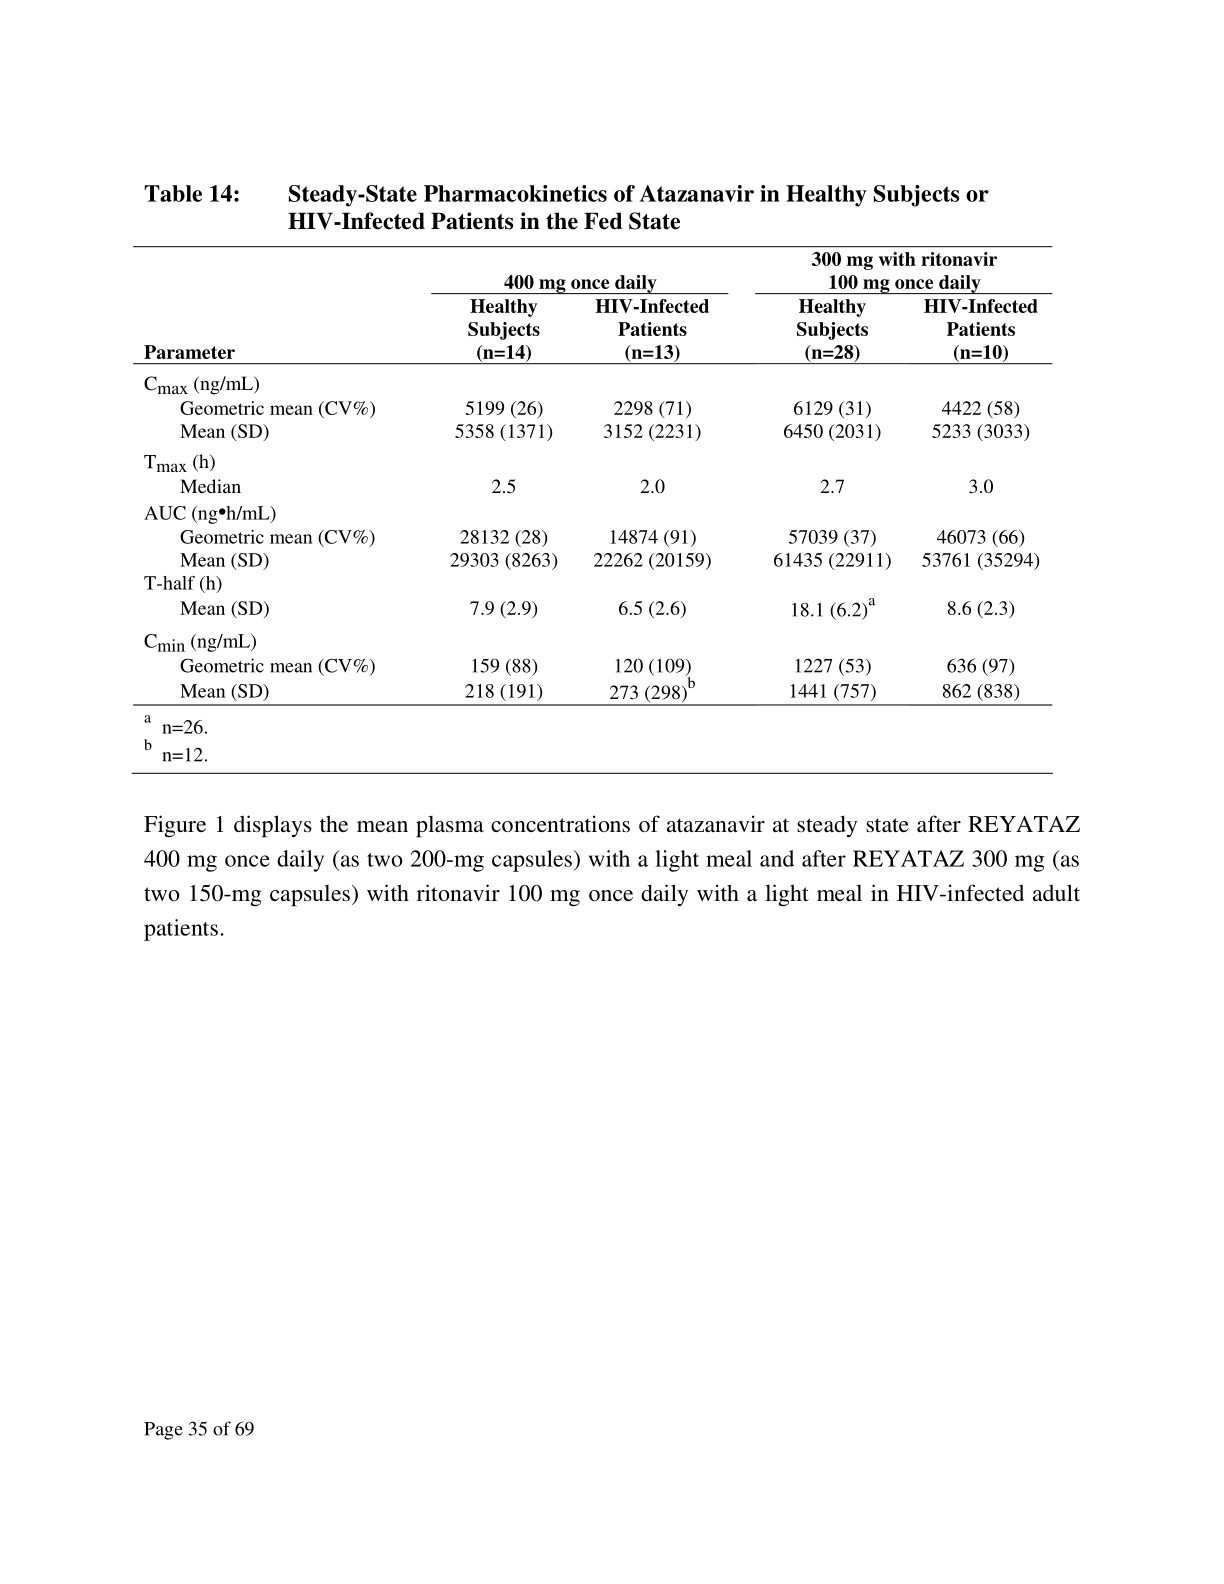partial_lined_merged_cells: (126, 237, 1067, 708)
